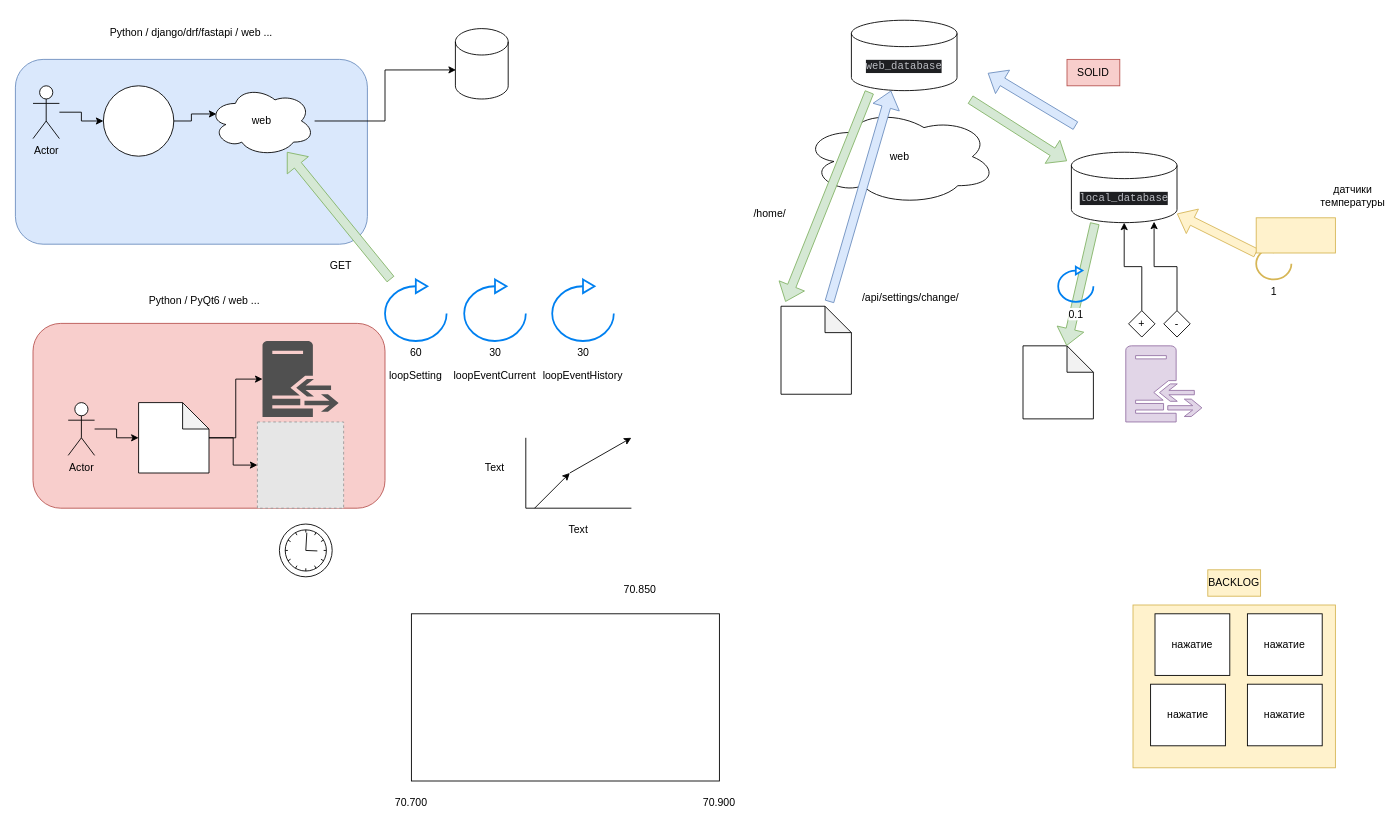
This 1400x831 diagram has some shape labels left out. Grey dashed boxes stand in for pictures. The shapes that lost their labels are listed below. From the top down, each one's centre as x and y in pixels, then its label:
At point (481, 63): "DB".
At point (138, 120): "chrome".
At point (1295, 235): "ЭМУЛЯЦИЯ".
At point (815, 349): "html".
At point (1057, 382): "UI".
At point (173, 437): "(PY)QT".
